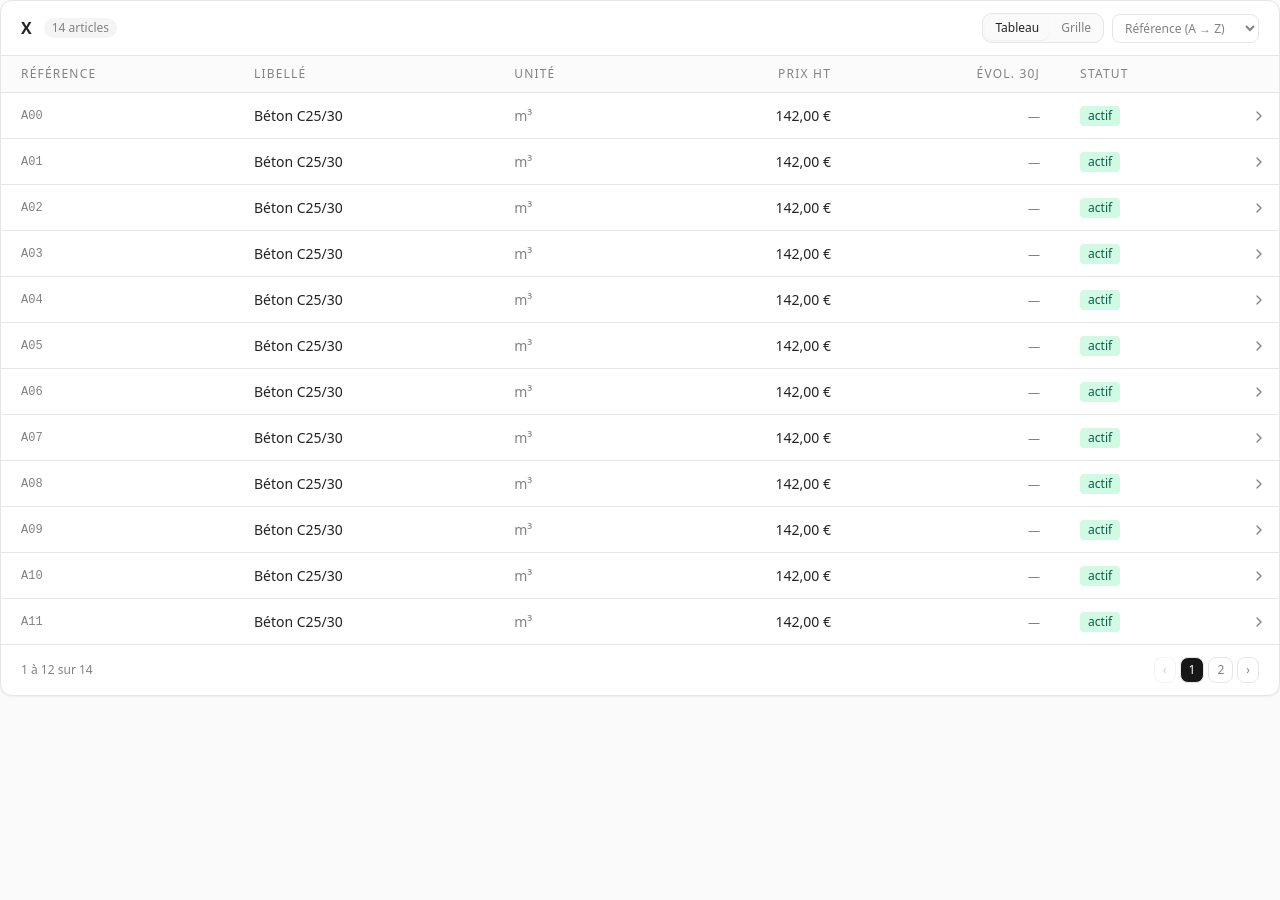
ArticlesListeCard › pagine au-delà de 12 articles
Expected: the text "1 à 12 sur 14" is shown, [21,662,93,678]
Click the button "2": (1221, 670) [1208,657,1233,683]
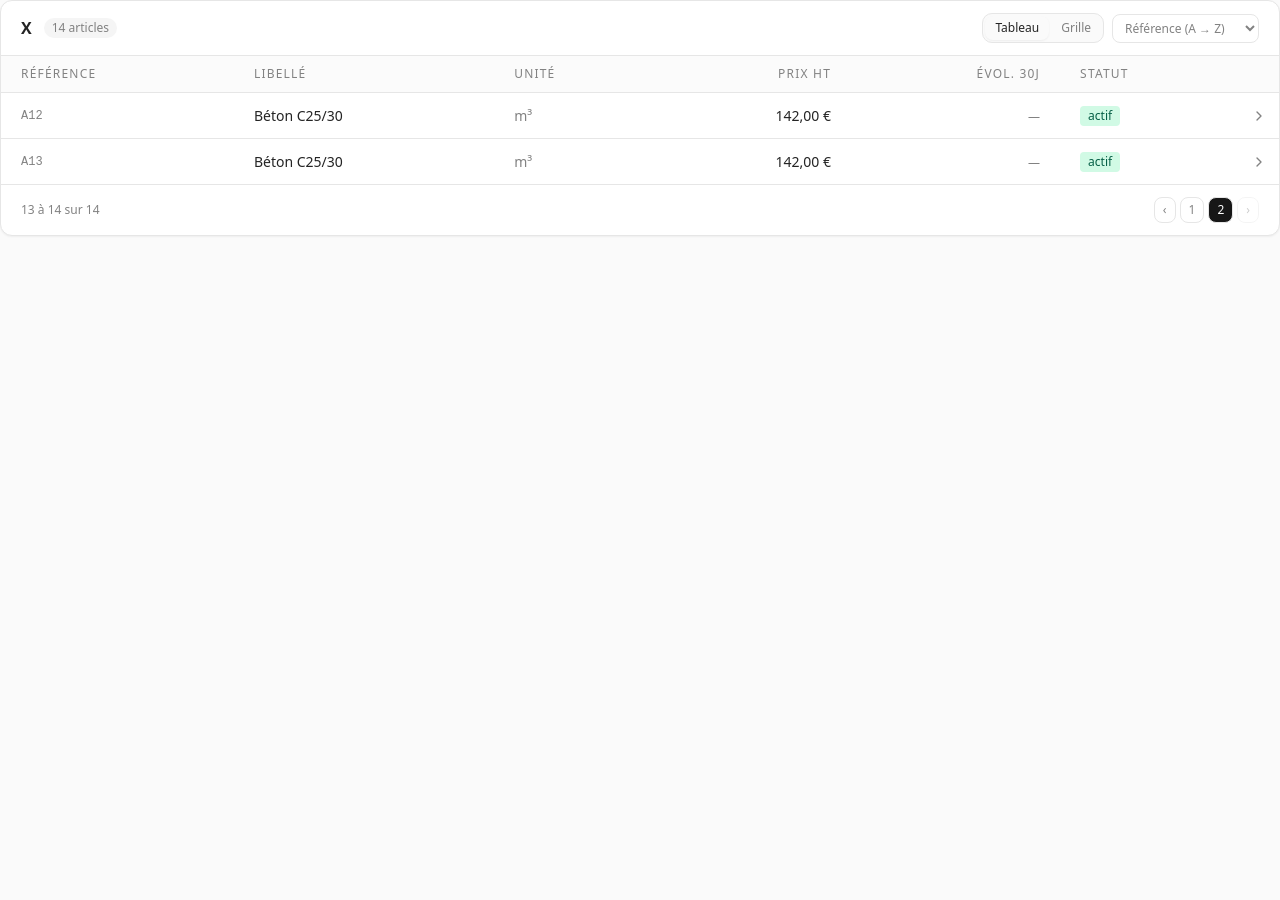
Expected: the text "13 à 14 sur 14" is shown, [21,202,100,218]
